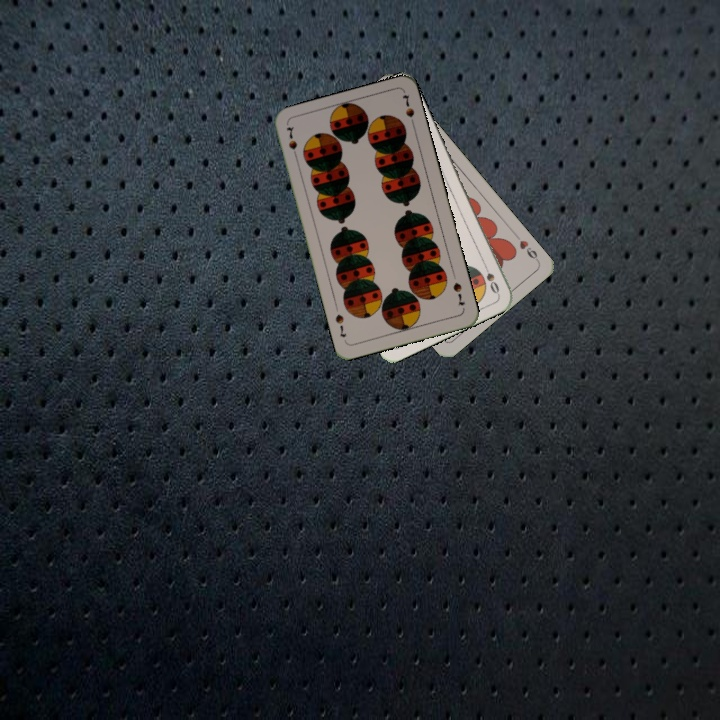H9: (511, 230, 541, 264)
S7: (282, 122, 300, 162), (449, 278, 468, 308)
SO: (479, 258, 502, 297)
